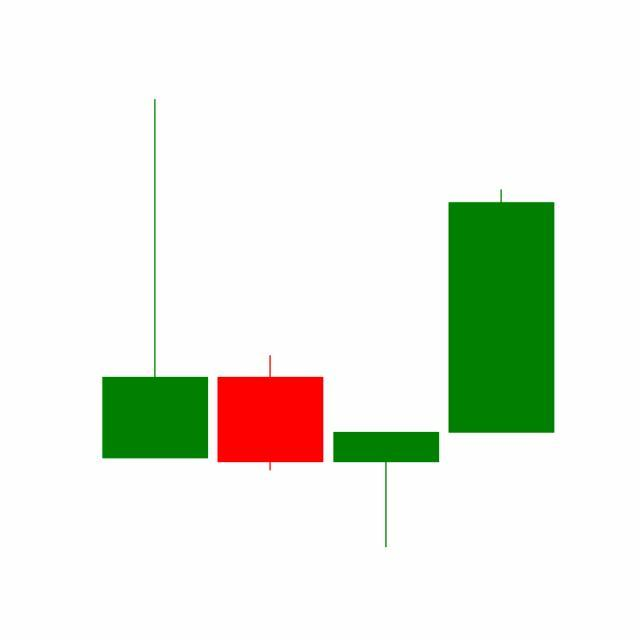Dragonfly Doji: (329, 431, 445, 550)
